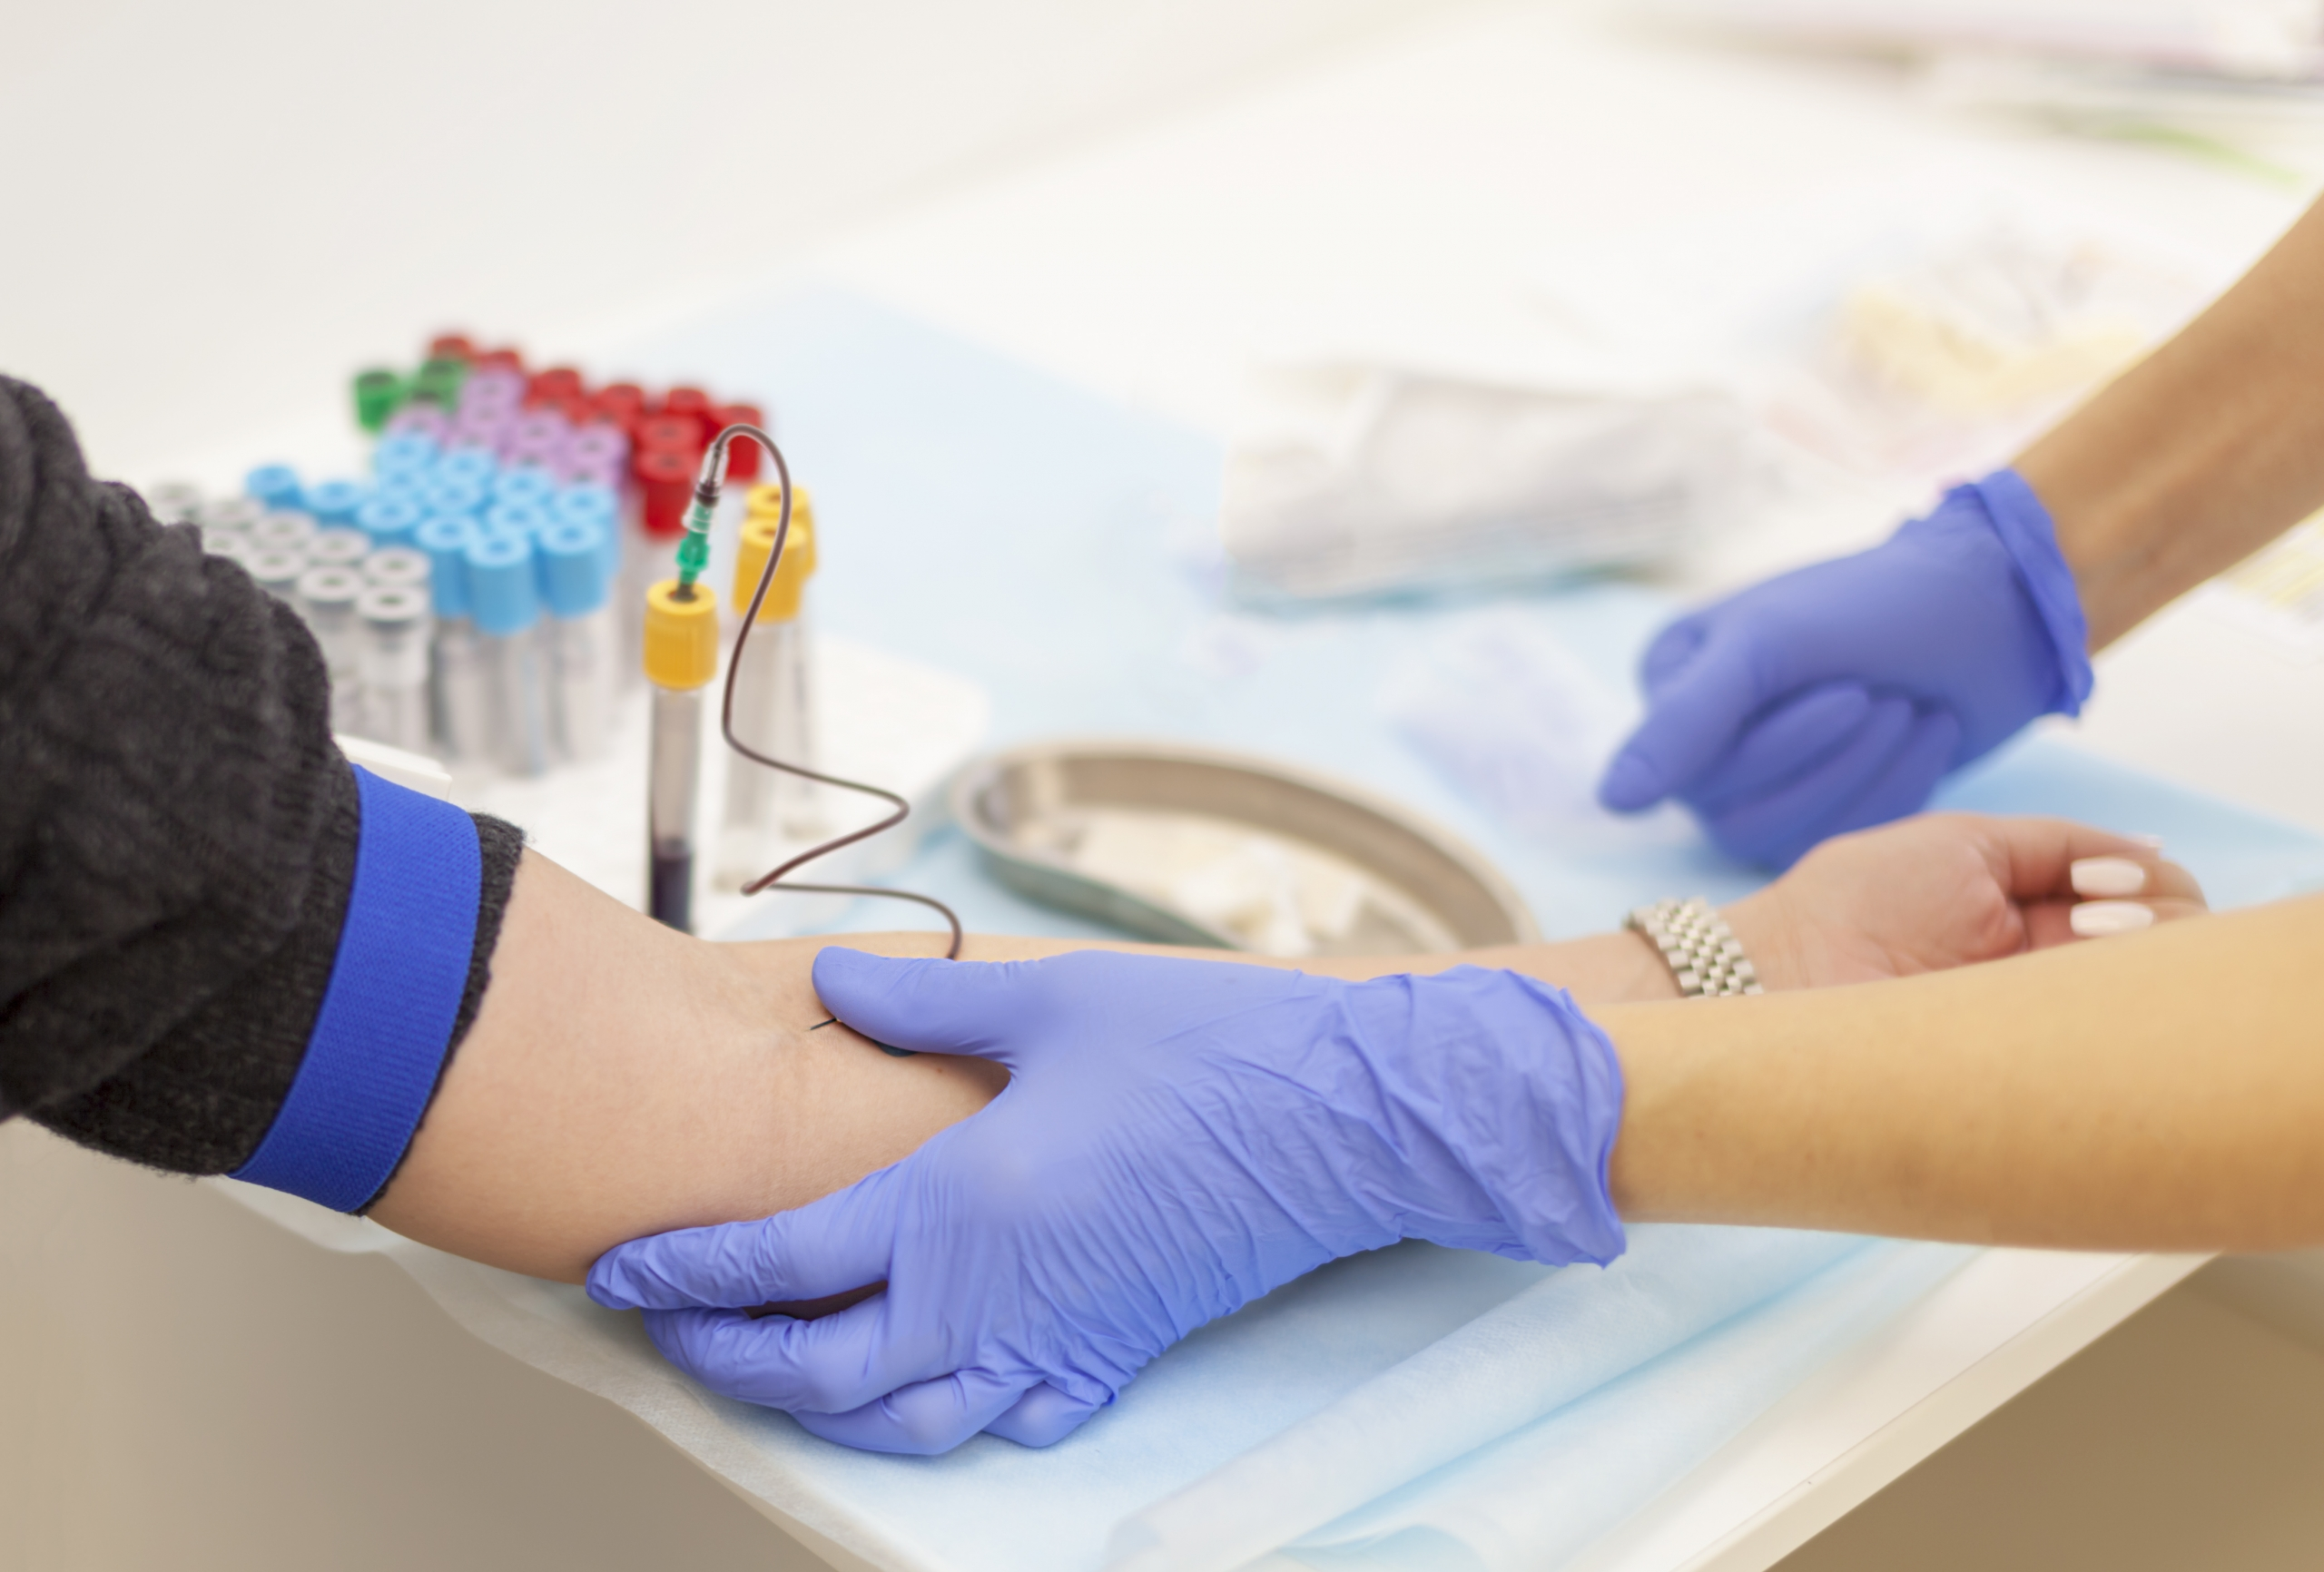glove: (586, 971, 1622, 1449), (1584, 473, 2006, 873)
